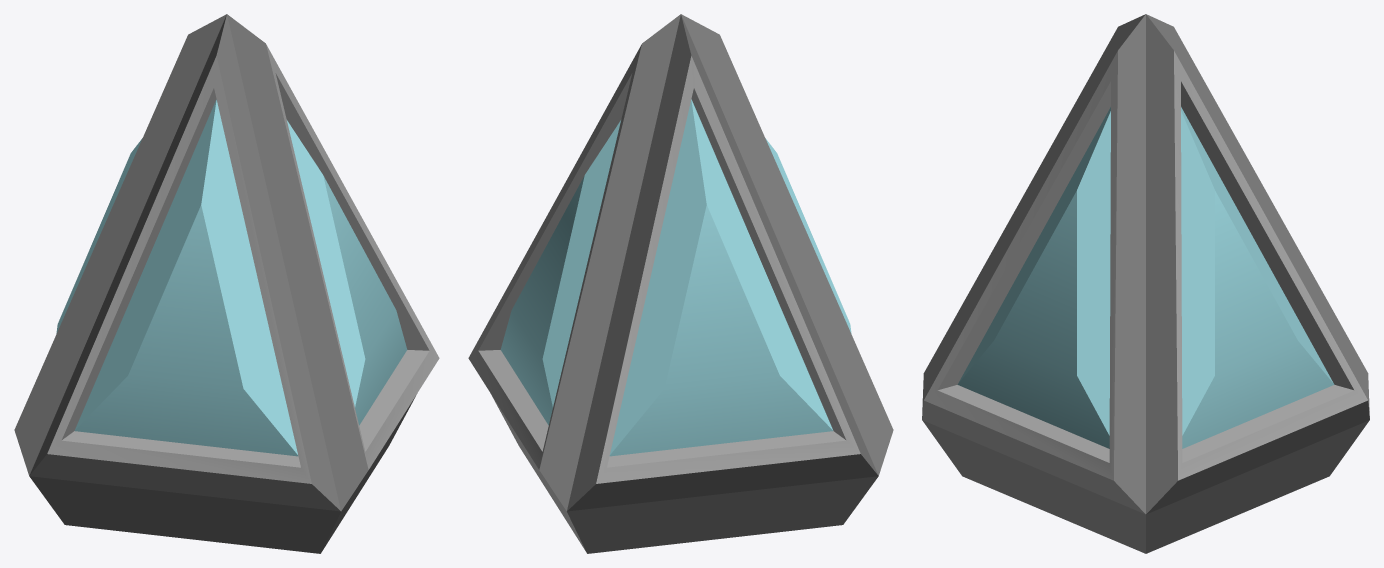
File: Extra Asset light.fbx
3 views of the same model, side by side, from view 1: azimuth 30°, elevation 25°; view 2: azimuth 150°, elevation 25°; view 3: azimuth 270°, elevation 25° (orthographic).
Visible parts, largest first — view 1: pCone1; view 2: pCone1; view 3: pCone1.
Part boxes in pixels (box(x1,y1,x2,y2)): pCone1: box(14, 14, 439, 553); pCone1: box(468, 14, 893, 553); pCone1: box(922, 14, 1369, 553).
Size of the model in its own units: 6.44 by 7.33 by 6.44.
